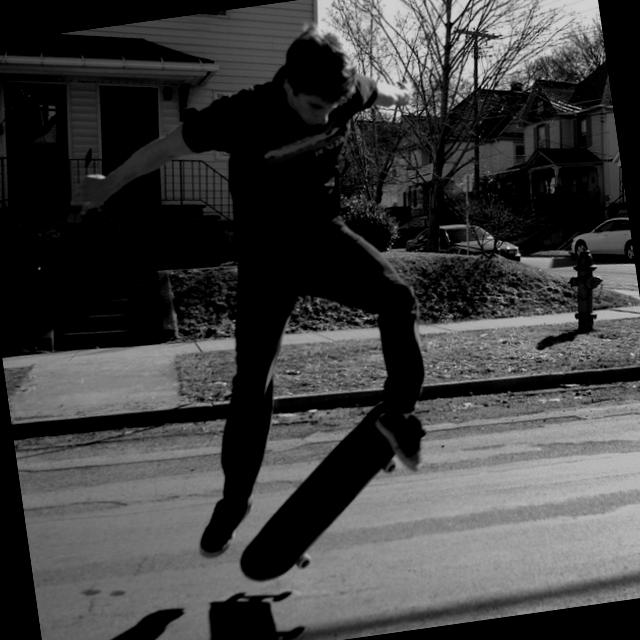Vehicle: (402, 213, 523, 275), (567, 216, 635, 272)
